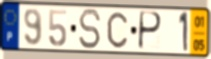1: (177, 11, 190, 55)
5: (47, 8, 68, 49)
9: (22, 7, 44, 48)
C: (106, 10, 129, 50)
P: (137, 10, 163, 52)
S: (77, 8, 102, 51)
